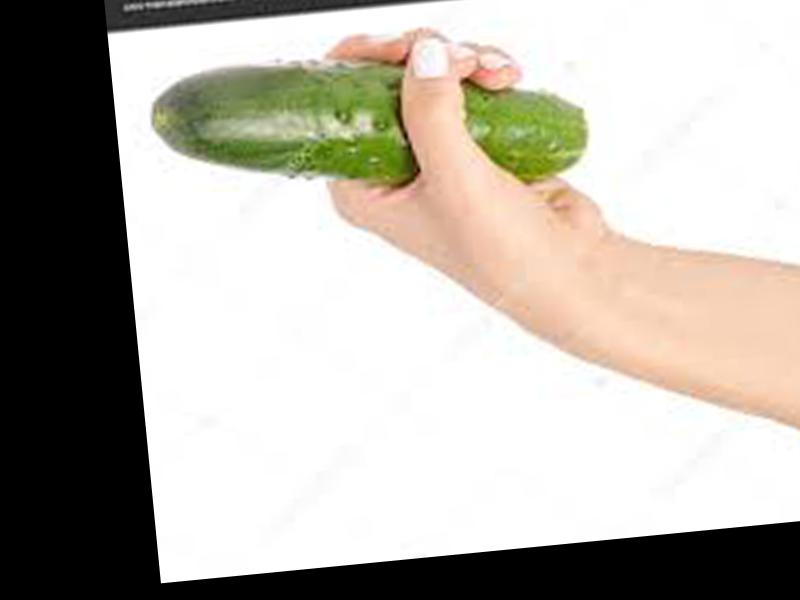Cucumber: (146, 33, 589, 218)
